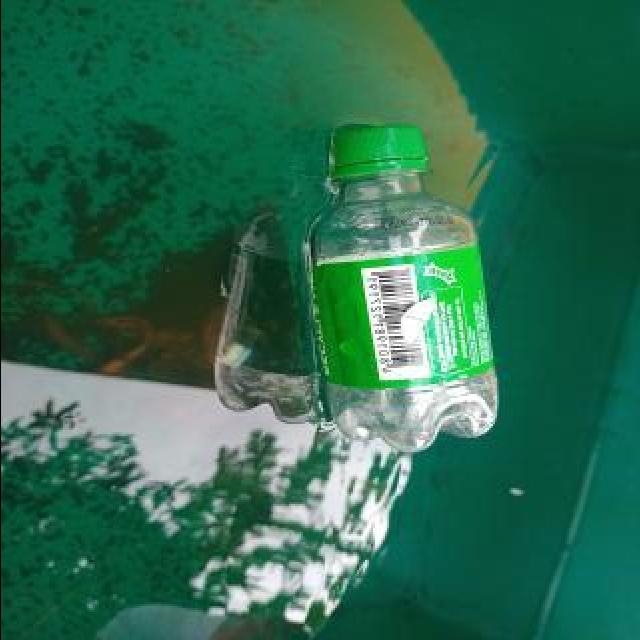Bottle: (299, 113, 507, 458)
